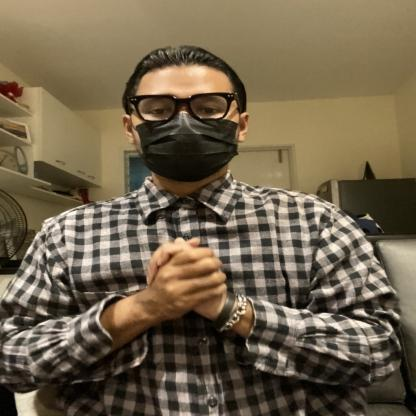Grieve: (69, 212, 300, 349)
